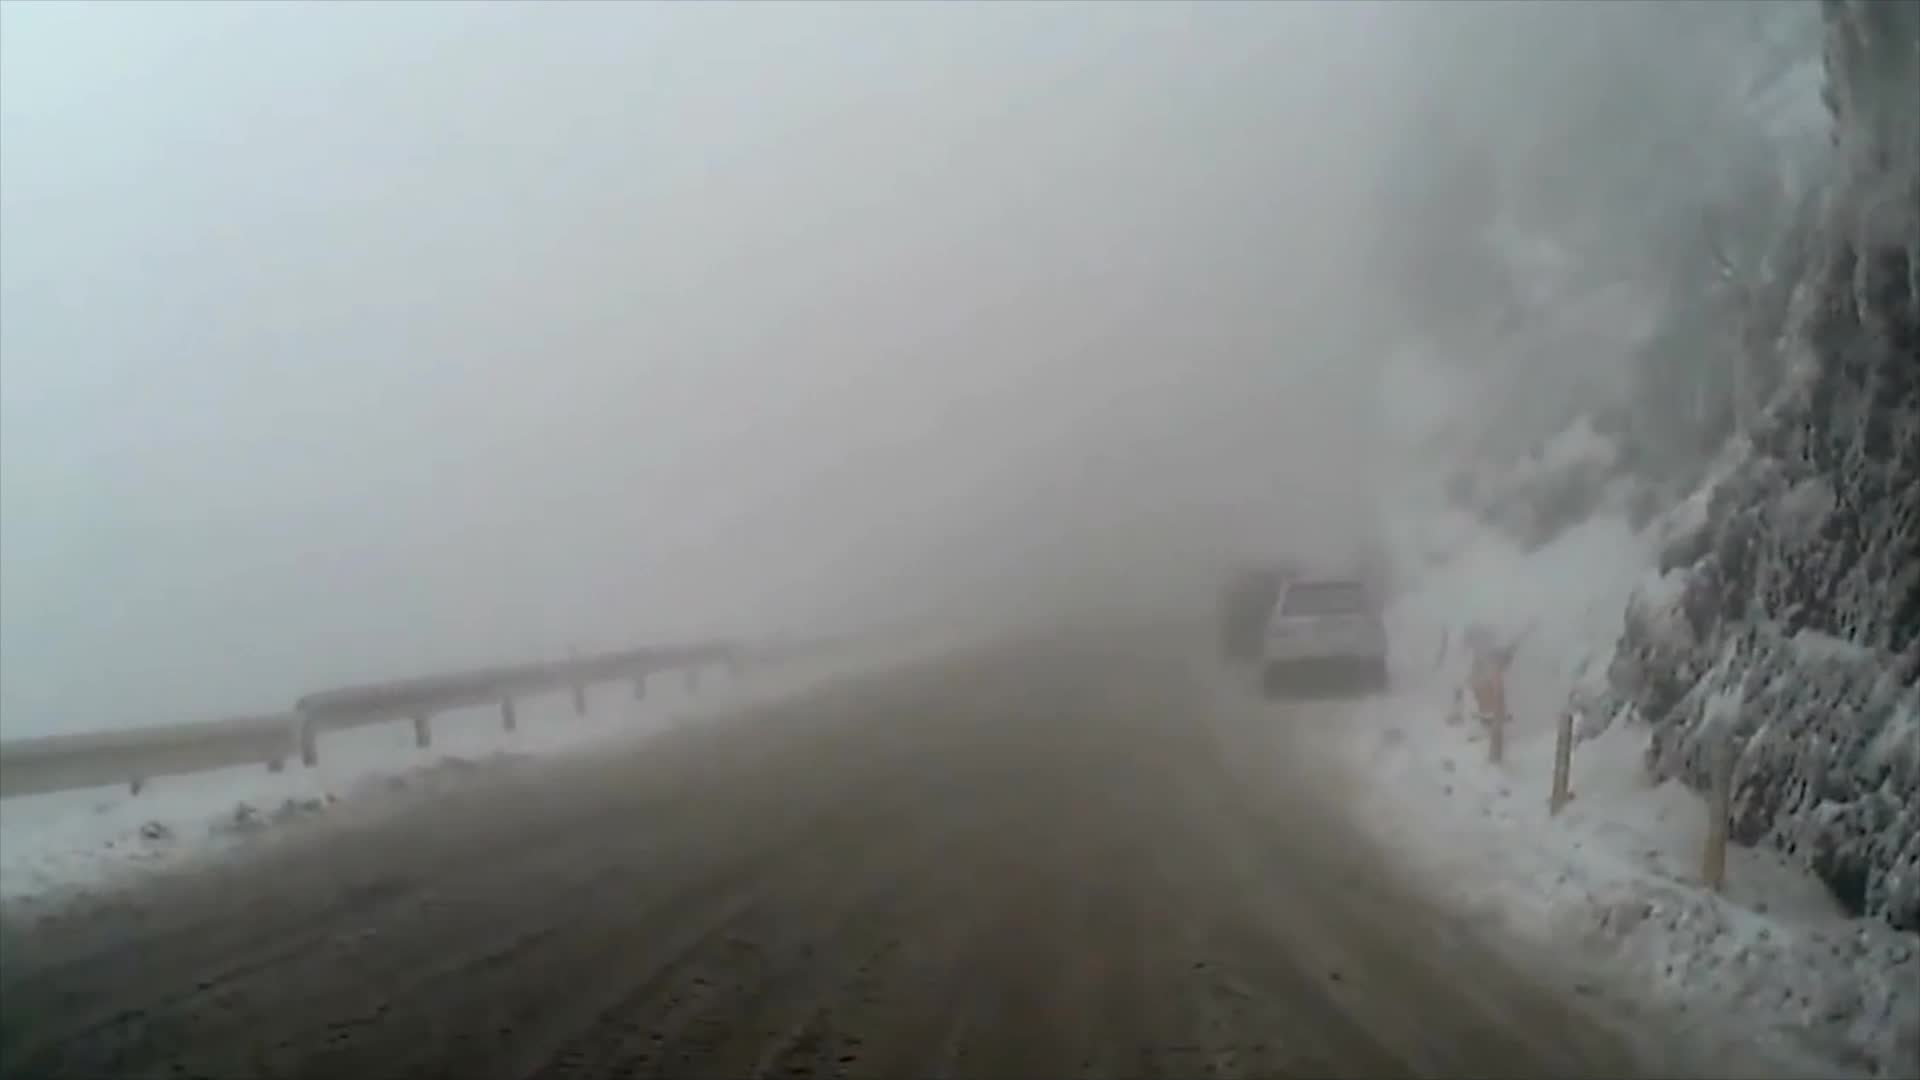vehicle: (1261, 570, 1385, 692), (1216, 549, 1328, 651)
